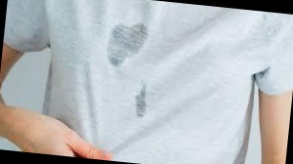oil: (105, 20, 147, 70), (131, 81, 160, 122)
